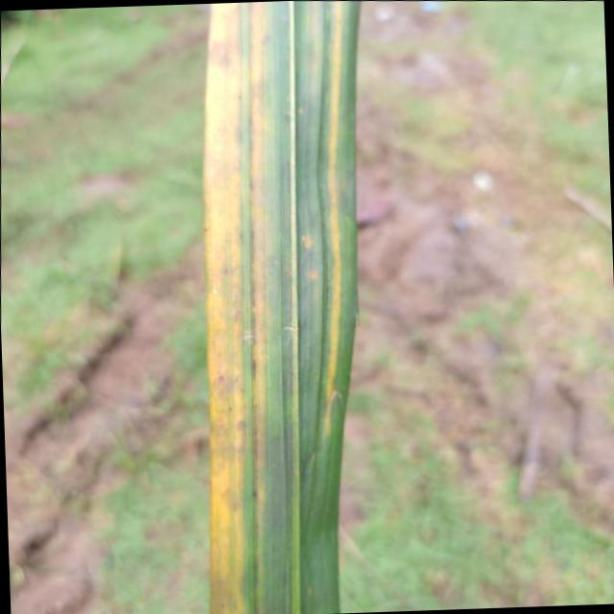Megnesium: (201, 0, 360, 614)
